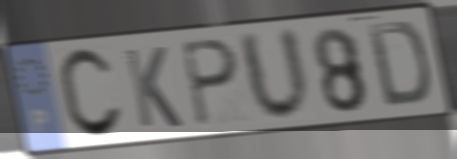8: (312, 25, 370, 115)
C: (55, 45, 126, 143)
D: (364, 19, 432, 110)
K: (121, 44, 185, 131)
P: (178, 37, 242, 130)
U: (235, 24, 314, 125)
